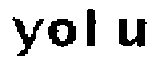l: (83, 4, 102, 49)
o: (47, 15, 79, 48)
u: (116, 14, 148, 51)
y: (8, 14, 46, 58)
